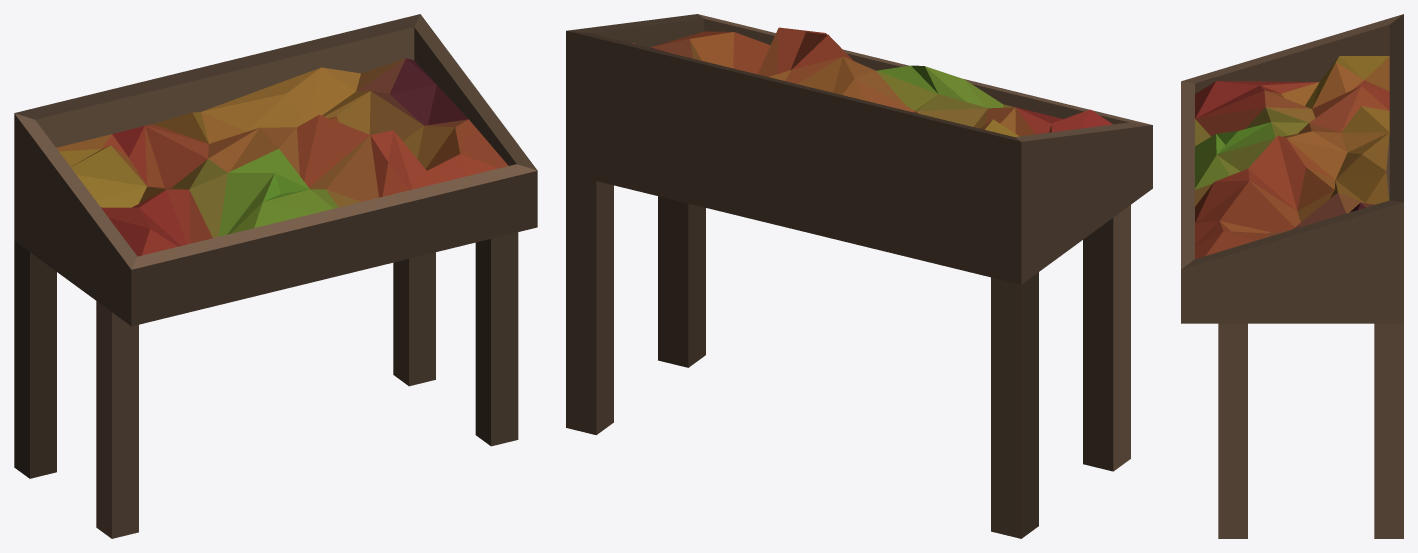
The model's file is Prop_MerchantTableB.fbx.
3 renders of one model, left to right at view 1: azimuth 30°, elevation 25°; view 2: azimuth 150°, elevation 25°; view 3: azimuth 270°, elevation 25°, orthographic. The views are drawn at different scales.
Visible parts, largest first — view 1: Prop_MerchantTableB; view 2: Prop_MerchantTableB; view 3: Prop_MerchantTableB.
Boxes of the visible parts, bbox=[...] form: Prop_MerchantTableB: bbox=[14, 14, 537, 538]; Prop_MerchantTableB: bbox=[566, 14, 1152, 538]; Prop_MerchantTableB: bbox=[1181, 14, 1403, 538].
Size of the model in its own units: 150 by 125 by 75.
